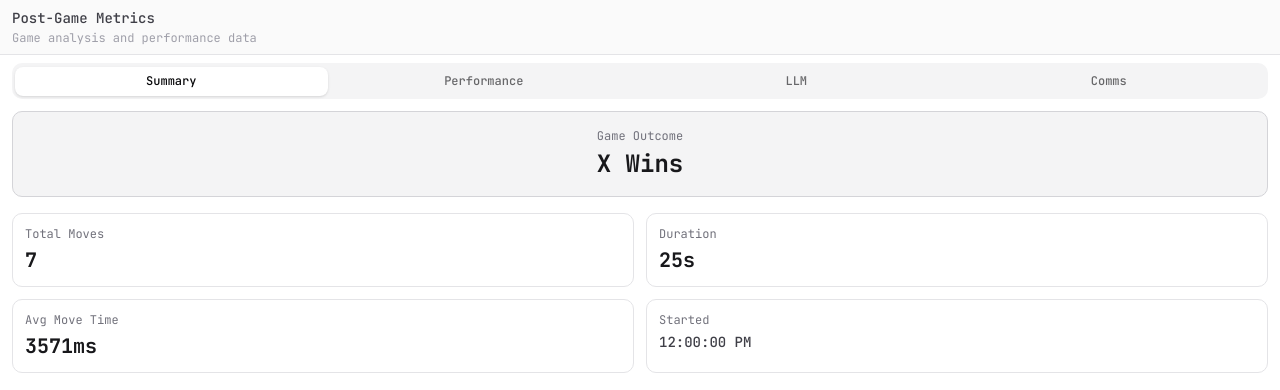
Test: PostGameMetrics › tabs › switches to LLM tab when clicked
Step 1. Click the tab "LLM" → (796, 81), box [640,66,952,96]
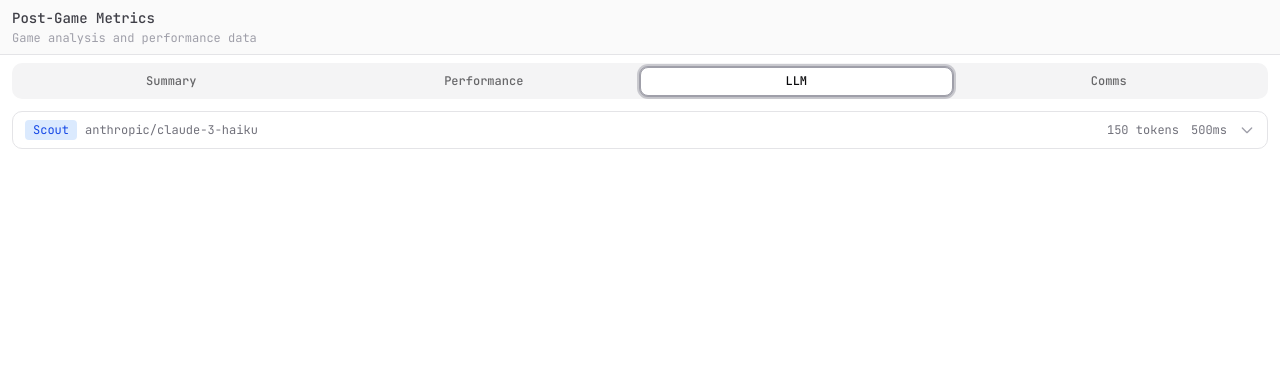
Check: the text "Scout" is shown, box [25,120,77,140]
